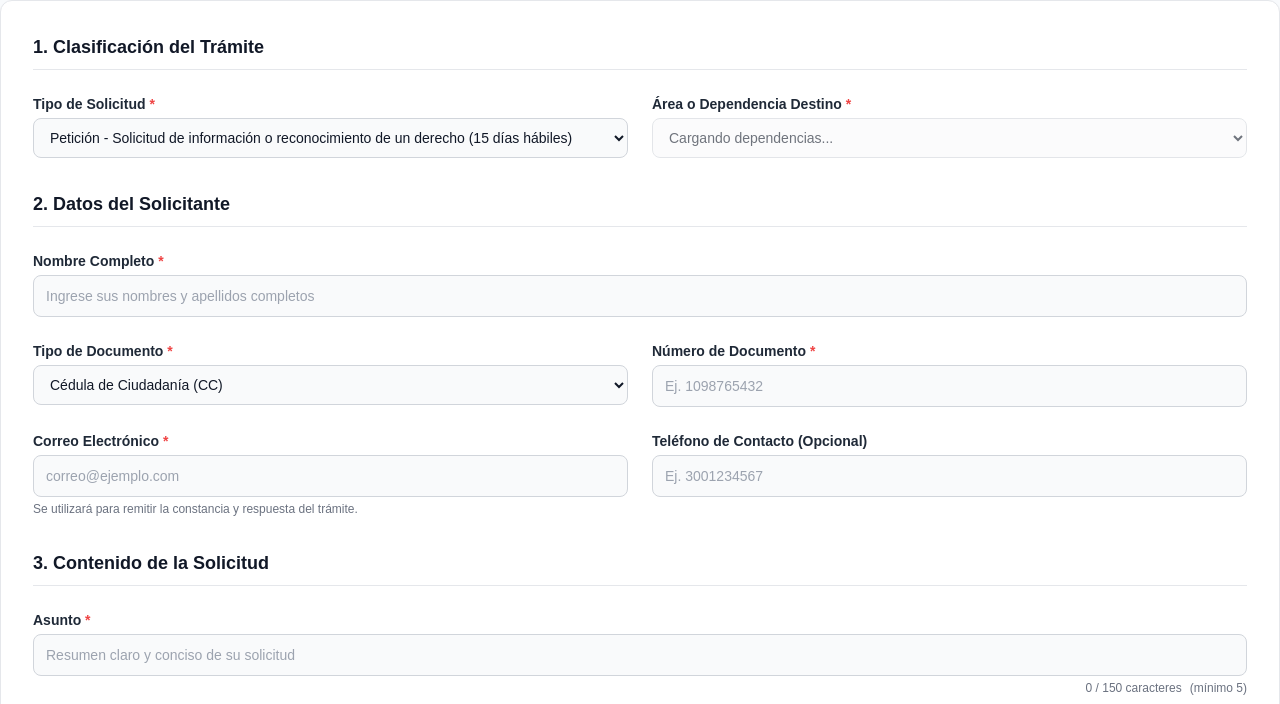
PqrsdfForm Component › allows anonymous registration for Denunciation and hides applicant fields when checked
Select 'Denunciation'
Step 1. Select "Denuncia - Notificación de hechos presuntamente irregulares o corruptos (30 días" in the dropdown labelled "Tipo de Solicitud *" → (330, 138), box [33,118,628,158]
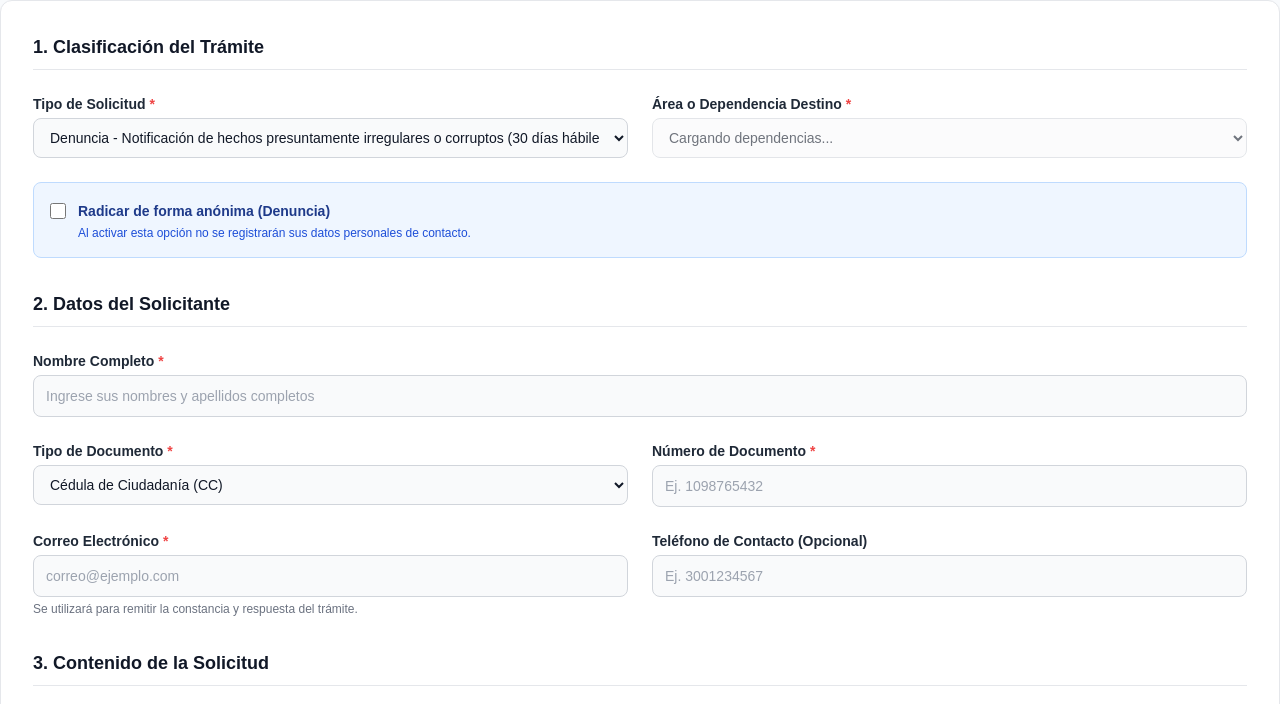
Expected: the field labelled "Nombre Completo *" is shown, [33,375,1247,417]
Expected: the checkbox labelled "Radicar de forma anónima" is shown
Expected: the checkbox labelled "Radicar de forma anónima" is not checked
Check anonymous
Step 2. Click the checkbox labelled "Radicar de forma anónima" → (58, 211), box [50,203,66,219]
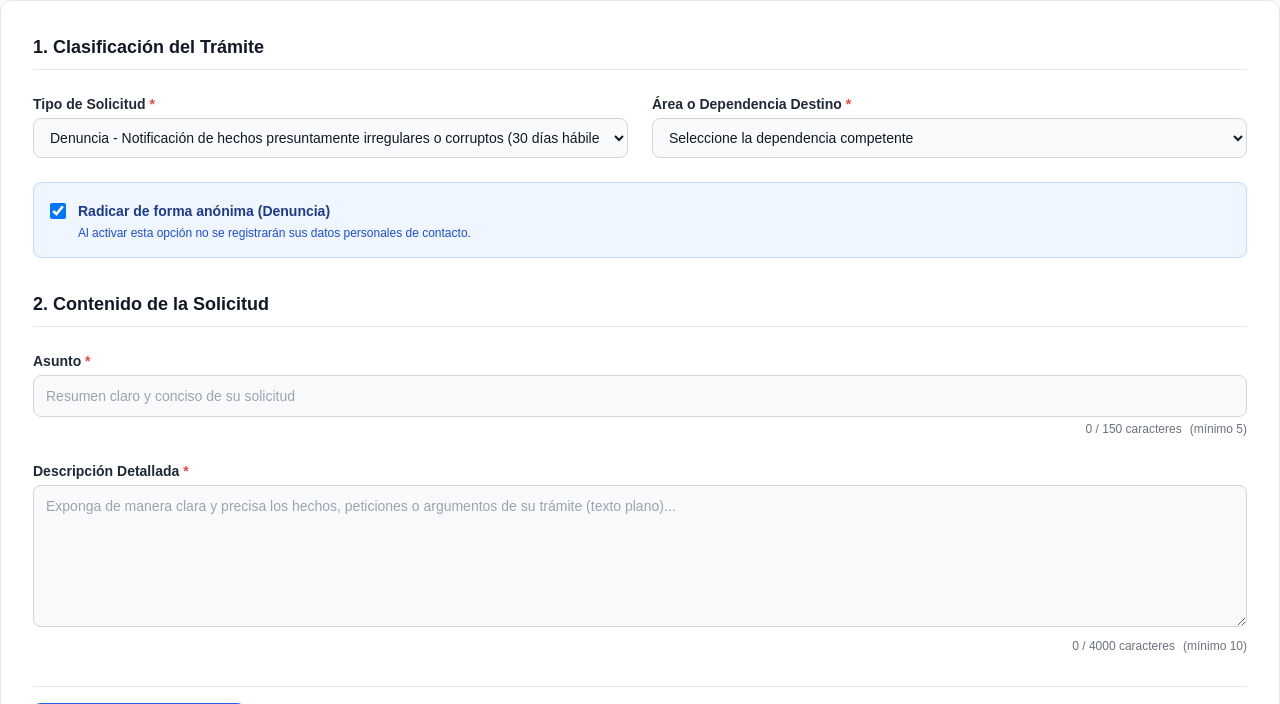
Expected: the checkbox labelled "Radicar de forma anónima" is checked, [50,203,66,219]
Expected: the label labelled "Nombre Completo" is gone
Expected: the label labelled "Correo Electrónico" is gone
